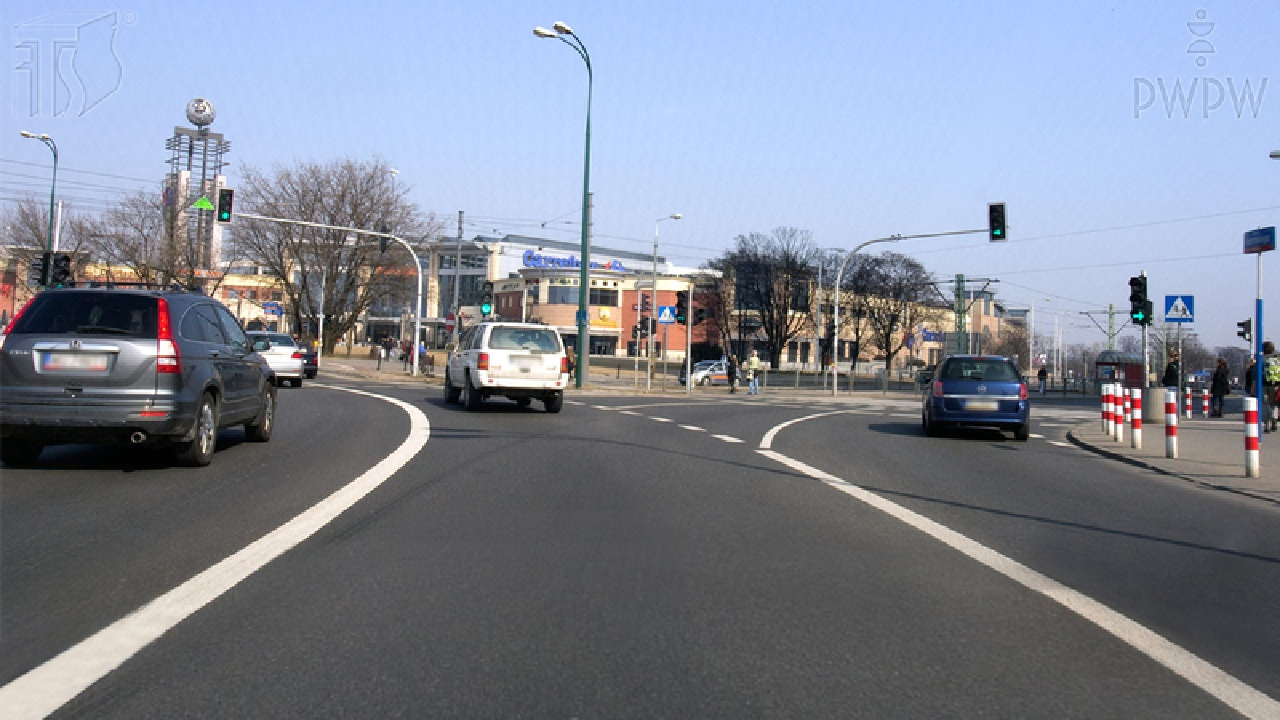Green: (1130, 276, 1149, 324), (988, 203, 1006, 241), (220, 189, 231, 222), (482, 281, 491, 313)
